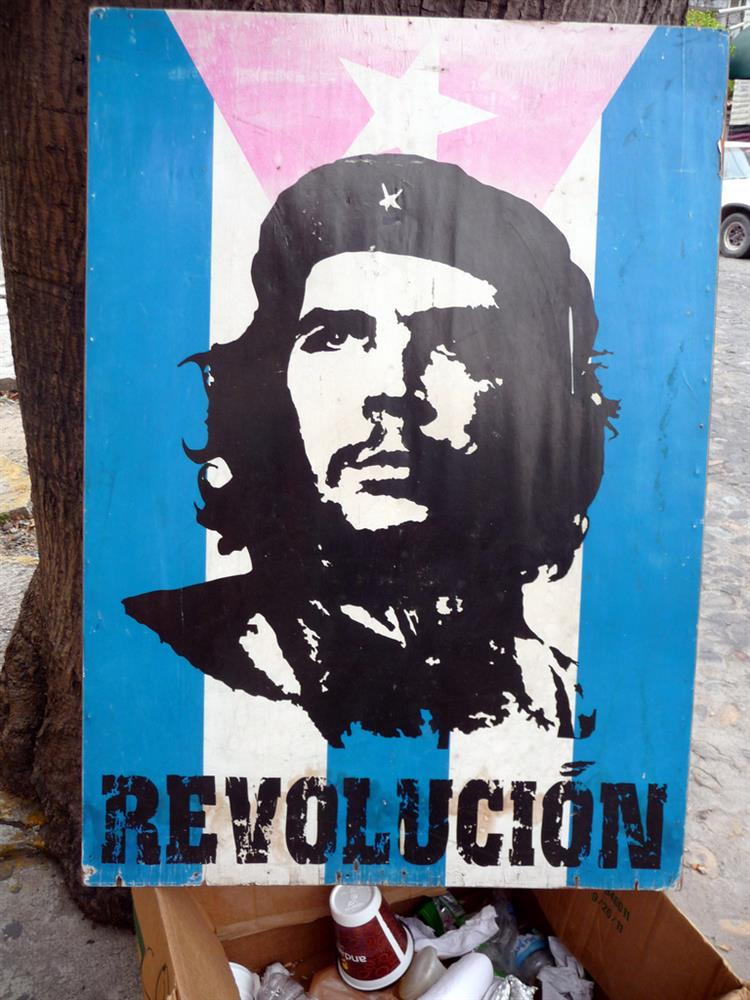Che_Guevara: (221, 179, 579, 702)
